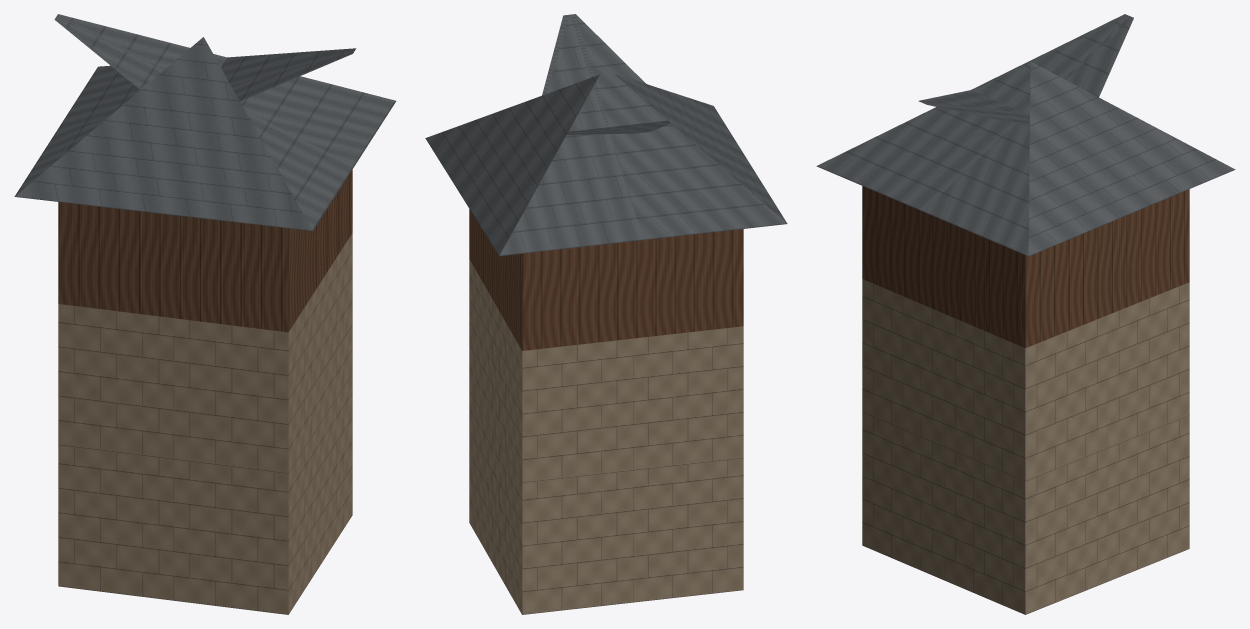
File: bld_c20_30_371.gltf
3 renders of one model, left to right at view 1: azimuth 30°, elevation 25°; view 2: azimuth 150°, elevation 25°; view 3: azimuth 270°, elevation 25°, orthographic. The views are drawn at different scales.
Parts seen in each view (by area): view 1: bld_c20_30_371; view 2: bld_c20_30_371; view 3: bld_c20_30_371.
Boxes of the visible parts, <box> form: bld_c20_30_371: <box>14,14,396,614</box>; bld_c20_30_371: <box>425,14,787,614</box>; bld_c20_30_371: <box>816,14,1235,614</box>.
Size of the model in its own units: 6.42 by 8.23 by 6.42.
Materials: 3 (3 with a texture image).
